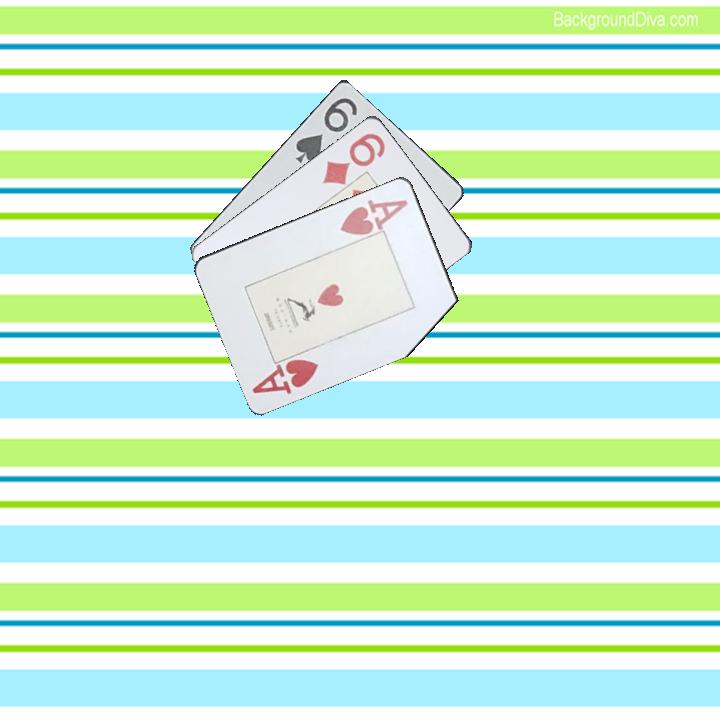6d: (318, 129, 388, 187)
6s: (291, 93, 360, 166)
Ah: (336, 195, 411, 238), (248, 355, 322, 397)
